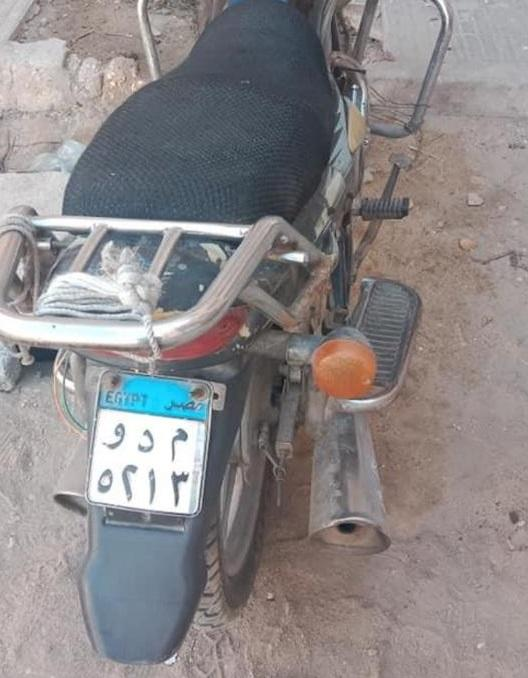License Plate: (89, 370, 210, 523)
